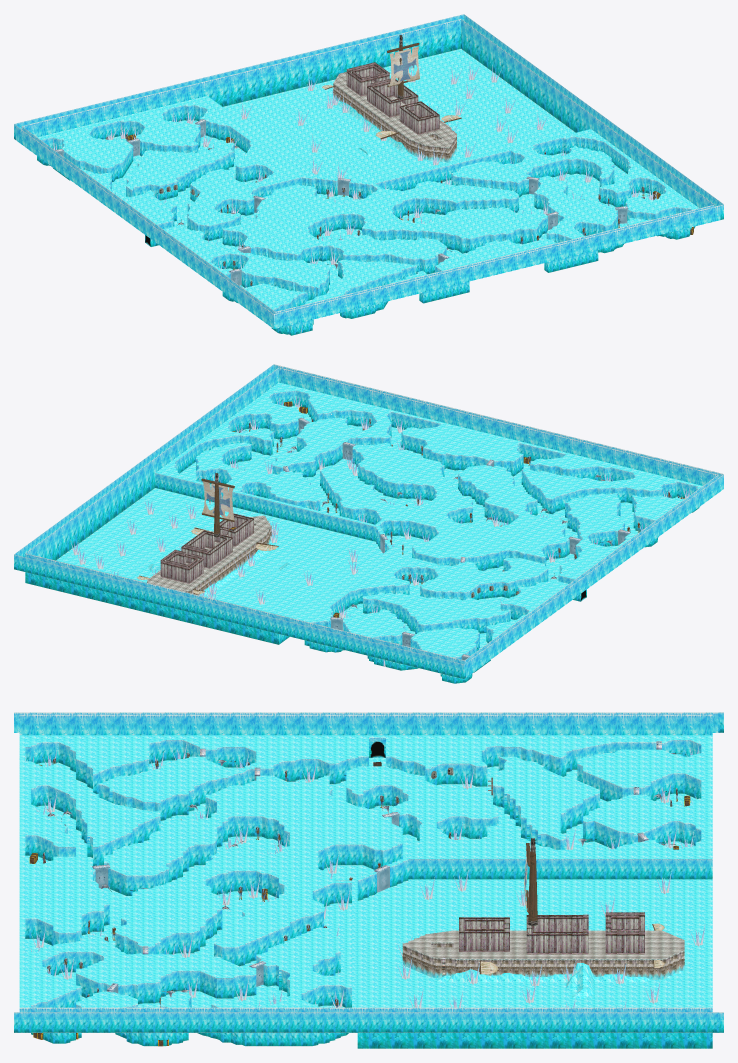
Rendered from map.gltf.
The picture shows the model from 3 angles, top to bottom: view 1: azimuth 30°, elevation 25°; view 2: azimuth 150°, elevation 25°; view 3: azimuth 270°, elevation 25°; orthographic projection. The views are drawn at different scales.
Size of the model in its own units: 126 by 25.11 by 126.
26 materials, 26 textured.
